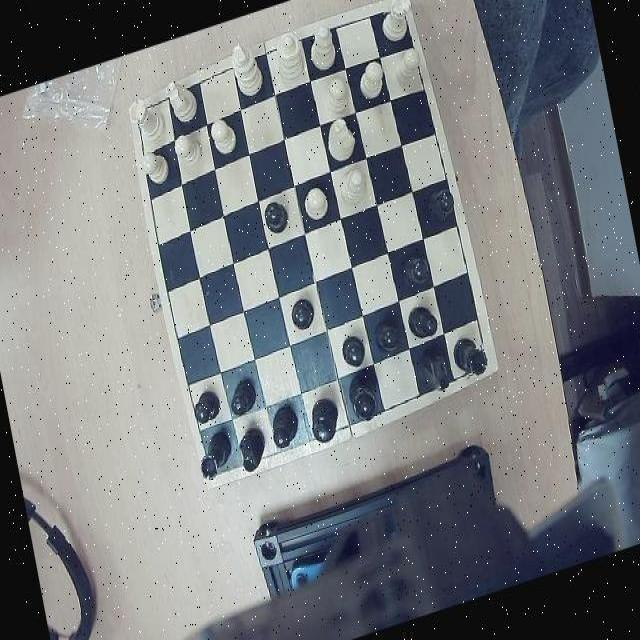chess-table-corners: (460, 342, 497, 382), (200, 450, 234, 485), (382, 0, 415, 32), (129, 100, 156, 132)
